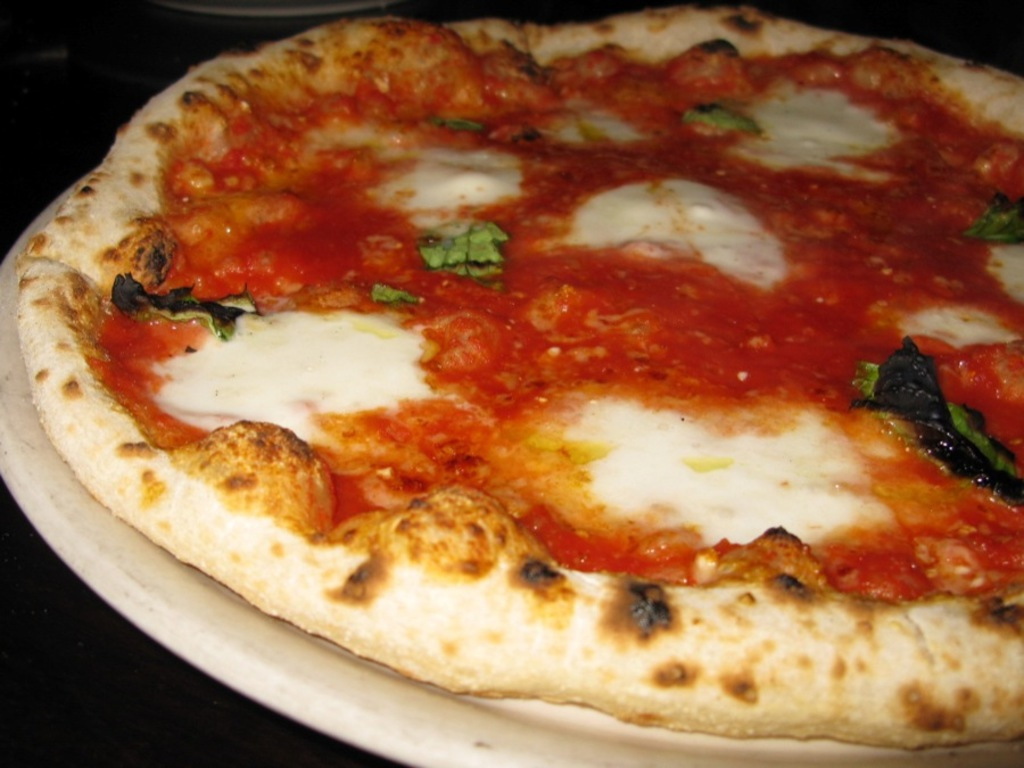Pizza: (10, 0, 1022, 752)
